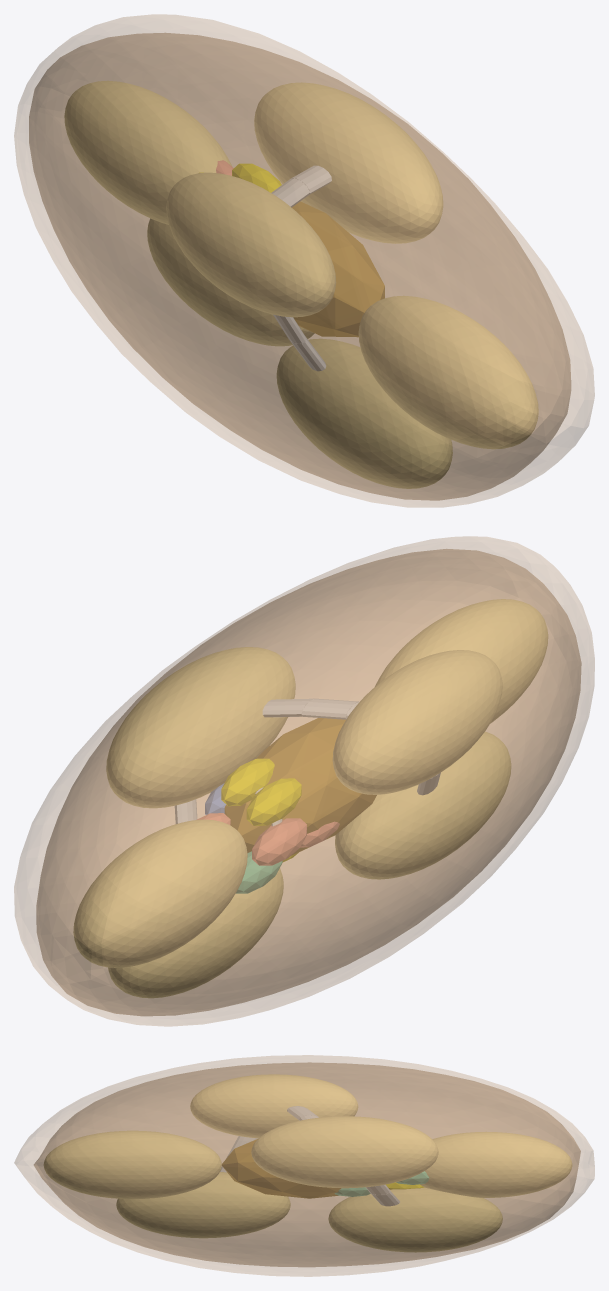
Rendered from virus_virus_ficticio_c_8280297.glb.
The picture shows the model from 3 angles, top to bottom: view 1: azimuth 30°, elevation 25°; view 2: azimuth 150°, elevation 25°; view 3: azimuth 270°, elevation 25°; orthographic projection. The views are drawn at different scales.
Parts seen in each view (by area): view 1: geometry_0, geometry_1, geometry_63, geometry_60, geometry_62, geometry_61, geometry_65, geometry_64, geometry_2, geometry_74, geometry_30; view 2: geometry_0, geometry_1, geometry_63, geometry_65, geometry_62, geometry_61, geometry_60, geometry_64, geometry_2, geometry_75, geometry_76, geometry_74 (+3 smaller); view 3: geometry_0, geometry_1, geometry_63, geometry_60, geometry_64, geometry_65, geometry_62, geometry_61, geometry_2.
Boxes of the visible parts, x1,y1,x2,y2 form: geometry_0: (14, 14, 594, 507); geometry_1: (29, 32, 571, 500); geometry_63: (254, 82, 443, 243); geometry_60: (358, 295, 538, 449); geometry_62: (166, 172, 336, 317); geometry_61: (276, 338, 452, 488); geometry_65: (64, 80, 231, 224); geometry_64: (147, 218, 314, 346); geometry_2: (292, 201, 384, 337); geometry_74: (232, 163, 281, 192); geometry_30: (271, 178, 309, 207); geometry_0: (14, 536, 594, 1026); geometry_1: (36, 549, 581, 1016); geometry_63: (106, 647, 295, 808); geometry_65: (73, 819, 247, 967); geometry_62: (332, 650, 502, 794); geometry_61: (335, 731, 511, 879); geometry_60: (375, 599, 548, 723); geometry_64: (108, 868, 283, 998); geometry_2: (224, 718, 376, 855); geometry_75: (246, 778, 301, 825); geometry_76: (252, 818, 306, 865); geometry_74: (221, 758, 274, 806); geometry_0: (14, 1055, 594, 1276); geometry_1: (34, 1062, 580, 1267); geometry_63: (251, 1116, 438, 1188); geometry_60: (43, 1130, 221, 1199); geometry_64: (328, 1187, 502, 1252); geometry_65: (420, 1131, 572, 1197); geometry_62: (190, 1074, 358, 1138); geometry_61: (116, 1172, 290, 1238); geometry_2: (222, 1139, 340, 1198).
Bounding box in the file's own units: 6.37 × 6.43 × 16.92.
